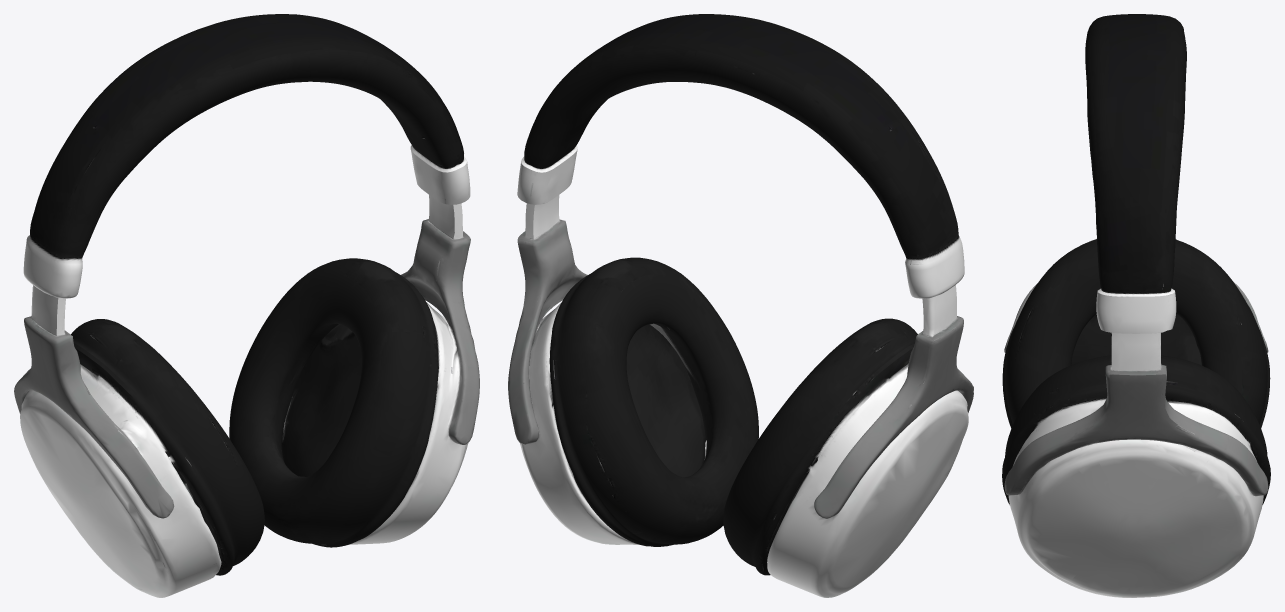
Rendered from aura.glb.
3 views of the same model, side by side, from view 1: azimuth 30°, elevation 25°; view 2: azimuth 150°, elevation 25°; view 3: azimuth 270°, elevation 25° (orthographic). The views are drawn at different scales.
Visible parts, largest first — view 1: Mesh_0; view 2: Mesh_0; view 3: Mesh_0.
Boxes of the visible parts, box(x1,y1,x2,y2) form: Mesh_0: box(14, 14, 479, 597); Mesh_0: box(508, 14, 973, 597); Mesh_0: box(1002, 14, 1270, 597).
Size of the model in its own units: 1.6 by 1.9 by 0.9091.
1 material, 1 textured.
